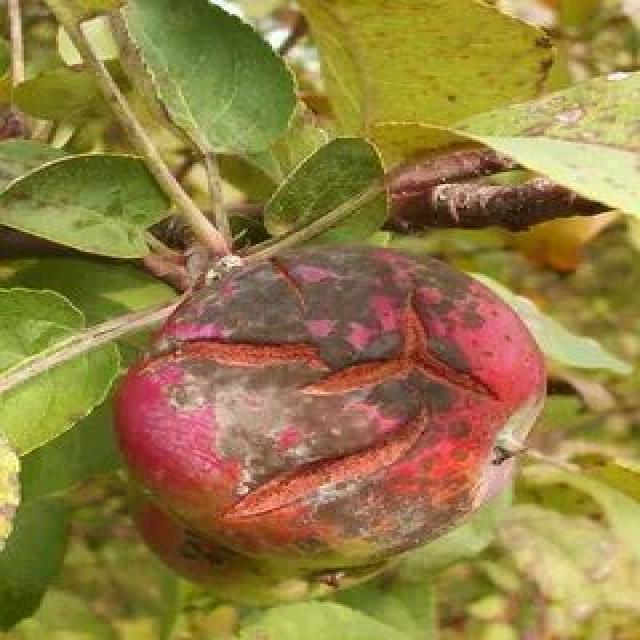Rotten: (140, 252, 532, 570)
